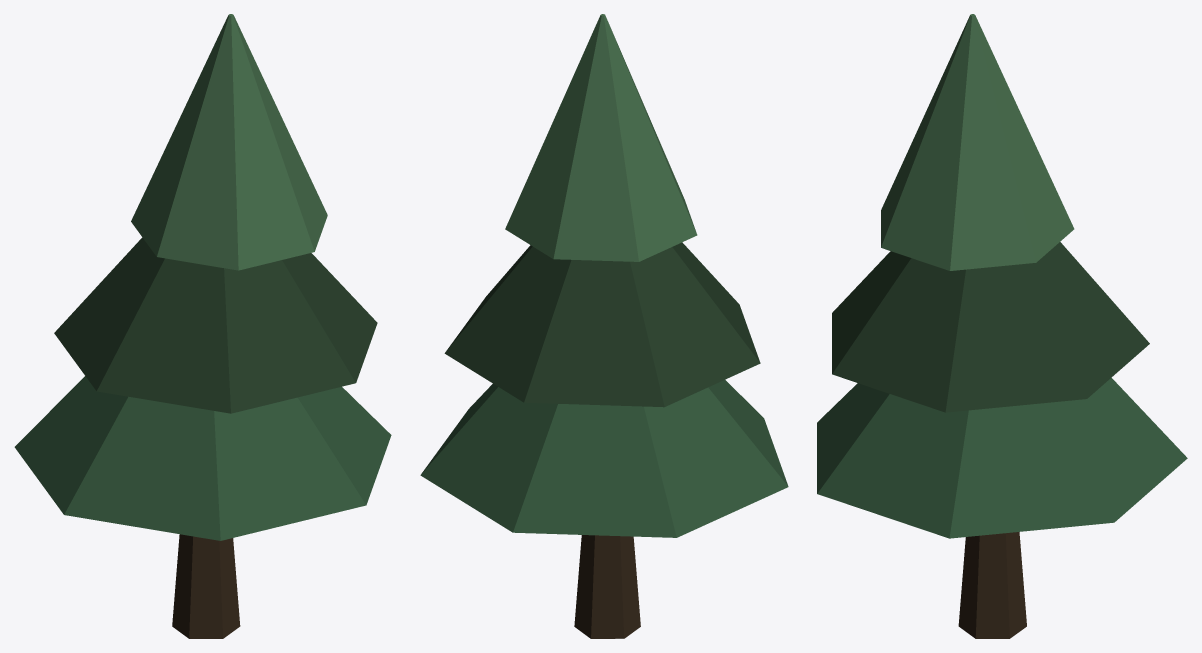
Rendered from pine_valley_0.glb.
3 renders of one model, left to right at view 1: azimuth 30°, elevation 25°; view 2: azimuth 150°, elevation 25°; view 3: azimuth 270°, elevation 25°, orthographic. The views are drawn at different scales.
Parts seen in each view (by area): view 1: pine_valley_0; view 2: pine_valley_0; view 3: pine_valley_0.
Part boxes in pixels (<box>): pine_valley_0: <box>14,14,391,638</box>; pine_valley_0: <box>420,14,788,638</box>; pine_valley_0: <box>817,14,1187,638</box>.
Size of what is drawn, in the model's own units: 2.89 by 5.19 by 2.82.
